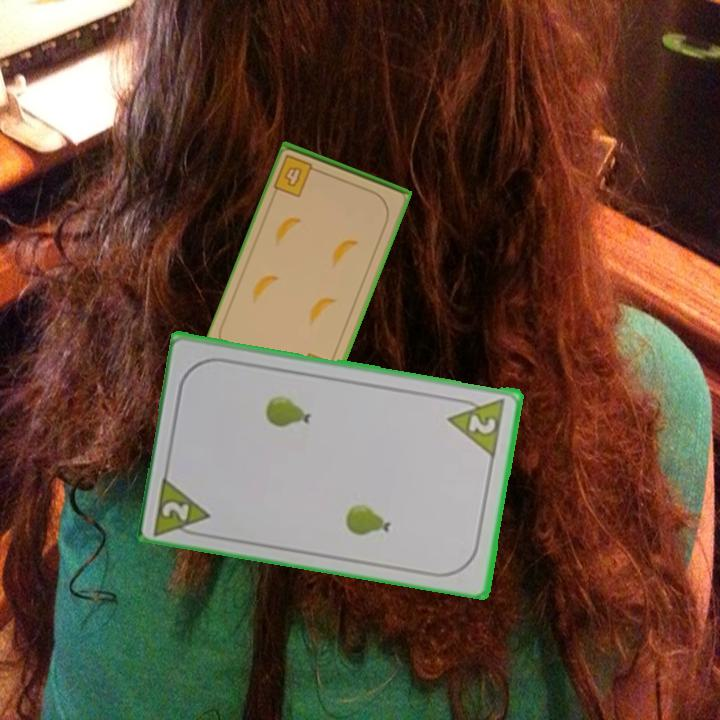2p: (151, 470, 215, 538), (445, 393, 509, 459)
4b: (270, 151, 324, 200)
